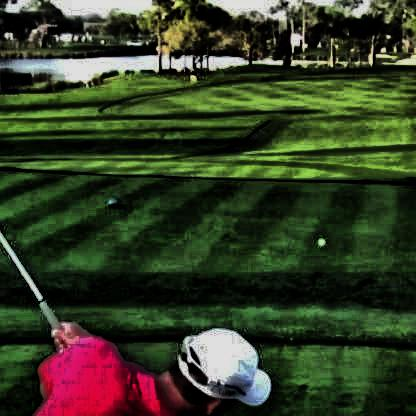golfball: (314, 235, 323, 244)
